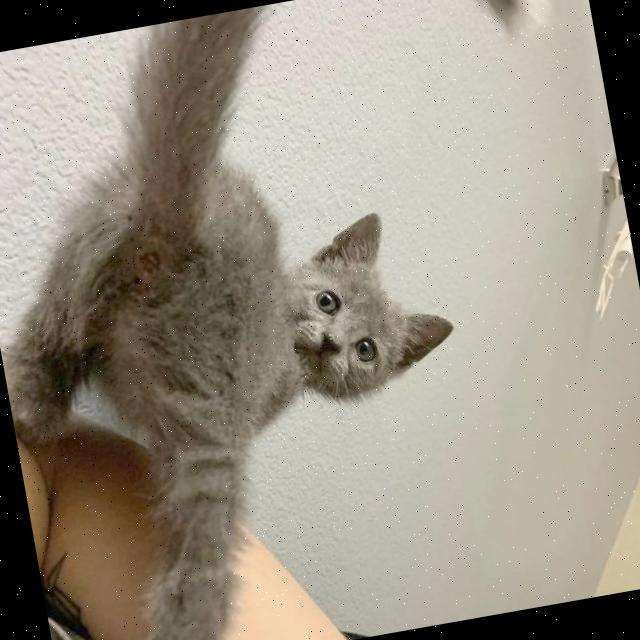cat: (7, 0, 526, 590)
